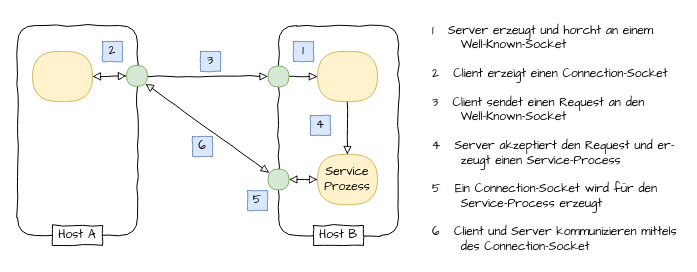
Some shapes in this 697 by 272 pixel diagram are drawn without their labels. Each missing label, with the centre of its shape:
"Client Prozess" belongs at (62,76).
"Server Deamon" belongs at (347,76).
